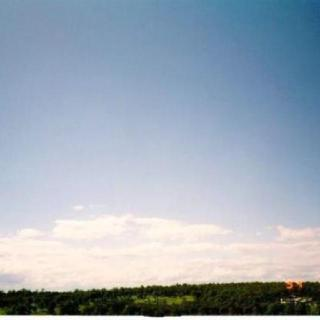Stratocumulus: (0, 201, 320, 282)
